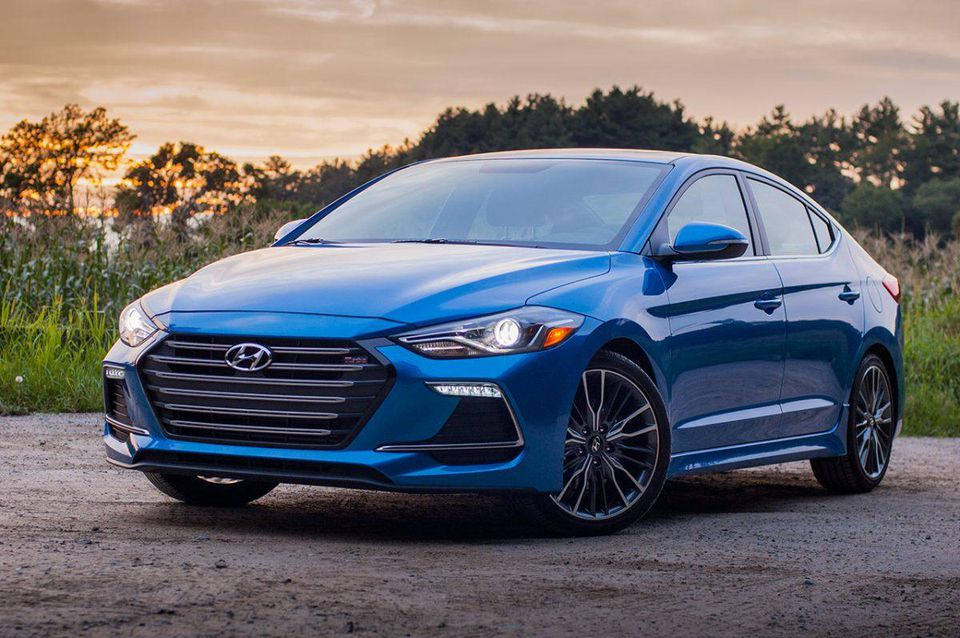elantra: (90, 129, 924, 542)
